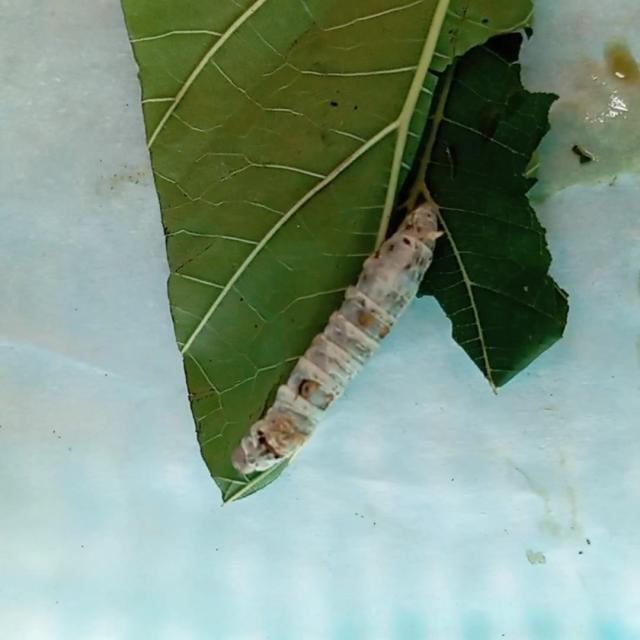Grasserie: (211, 177, 476, 527)
